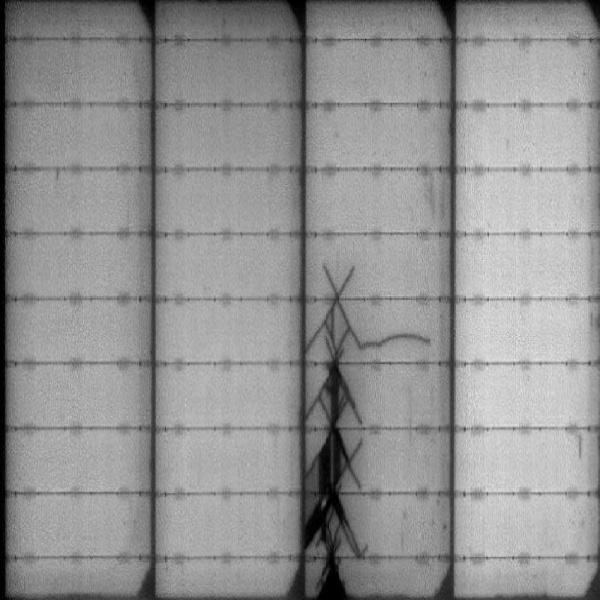broken: (310, 260, 438, 599)
